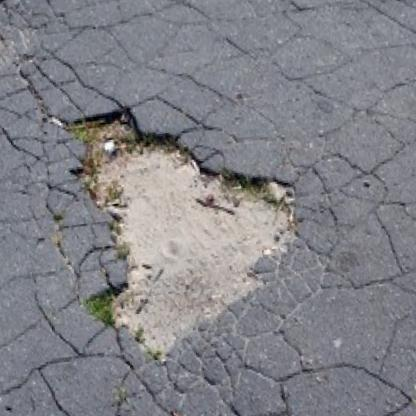pothole: (68, 84, 316, 367)
